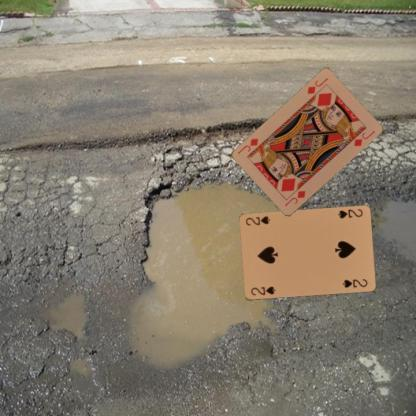2s: (335, 206, 364, 220), (249, 284, 276, 297)
Jd: (282, 188, 307, 208), (304, 76, 329, 95)
